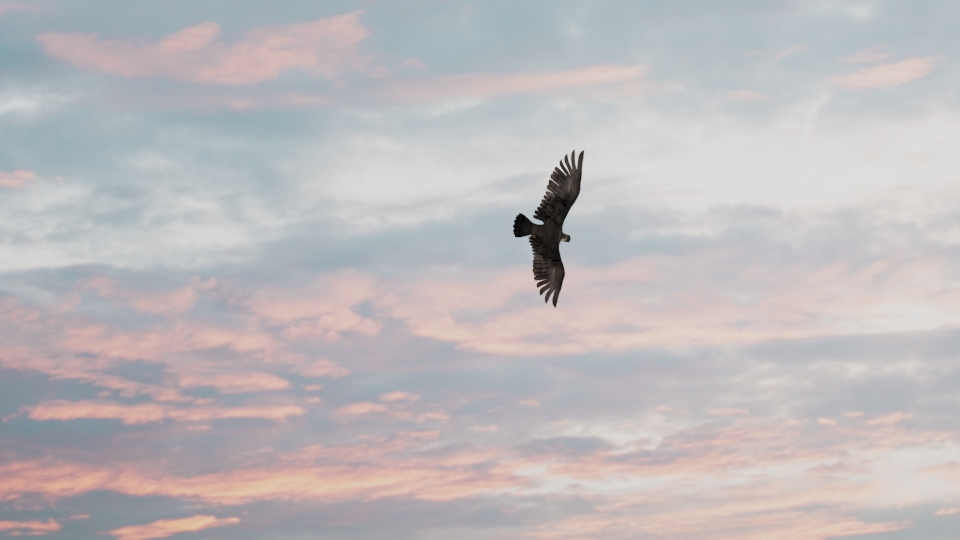bird: (513, 147, 587, 307)
